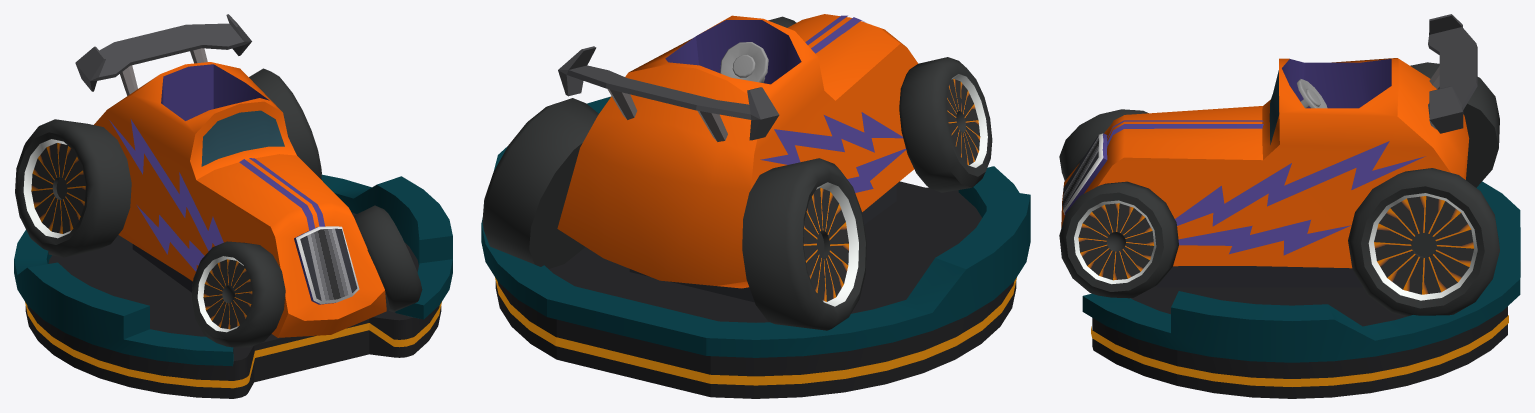
The model's file is vehicle.hotwheels.01.gltf.
3 renders of one model, left to right at view 1: azimuth 30°, elevation 25°; view 2: azimuth 150°, elevation 25°; view 3: azimuth 270°, elevation 25°, orthographic. The views are drawn at different scales.
Parts seen in each view (by area): view 1: hotwheels.body, hotwheels.base, hotwheels.wheels.rear, hotwheels.wheels.front, hotwheels.spoiler, hotwheels.neons.005, hotwheels.decals, hotwheels.body.002; view 2: hotwheels.base, hotwheels.body, hotwheels.wheels.rear, hotwheels.wheels.front, hotwheels.spoiler, hotwheels.neons.005, hotwheels.decals, speedster.steering.003, hotwheels.body.002; view 3: hotwheels.body, hotwheels.base, hotwheels.wheels.rear, hotwheels.wheels.front, hotwheels.decals, hotwheels.spoiler, hotwheels.neons.005, hotwheels.body.002, speedster.steering.003.
Part boxes in pixels (box(x1,y1,x2,y2)): hotwheels.body: box(94, 62, 386, 337); hotwheels.base: box(14, 174, 452, 398); hotwheels.wheels.rear: box(15, 68, 321, 257); hotwheels.wheels.front: box(191, 205, 422, 347); hotwheels.spoiler: box(75, 14, 251, 95); hotwheels.neons.005: box(25, 302, 441, 388); hotwheels.decals: box(109, 119, 223, 271); hotwheels.body.002: box(239, 158, 324, 230); hotwheels.base: box(481, 96, 1030, 398); hotwheels.body: box(557, 14, 917, 302); hotwheels.wheels.rear: box(482, 98, 866, 330); hotwheels.wheels.front: box(768, 16, 992, 192); hotwheels.spoiler: box(558, 46, 779, 141); hotwheels.neons.005: box(495, 277, 1016, 385); hotwheels.decals: box(760, 112, 906, 192); speedster.steering.003: box(720, 42, 768, 82); hotwheels.body.002: box(805, 15, 865, 53); hotwheels.body: box(1061, 58, 1469, 287); hotwheels.base: box(1082, 181, 1520, 398); hotwheels.wheels.rear: box(1348, 62, 1499, 316); hotwheels.wheels.front: box(1059, 109, 1178, 298); hotwheels.decals: box(1175, 141, 1425, 255); hotwheels.spoiler: box(1428, 14, 1477, 133); hotwheels.neons.005: box(1091, 315, 1508, 386); hotwheels.body.002: box(1107, 120, 1263, 146); speedster.steering.003: box(1297, 79, 1327, 108).
Size of what is drawn, in the model's own units: 2.11 by 1.21 by 2.01.
Materials: 3 (3 with a texture image).
